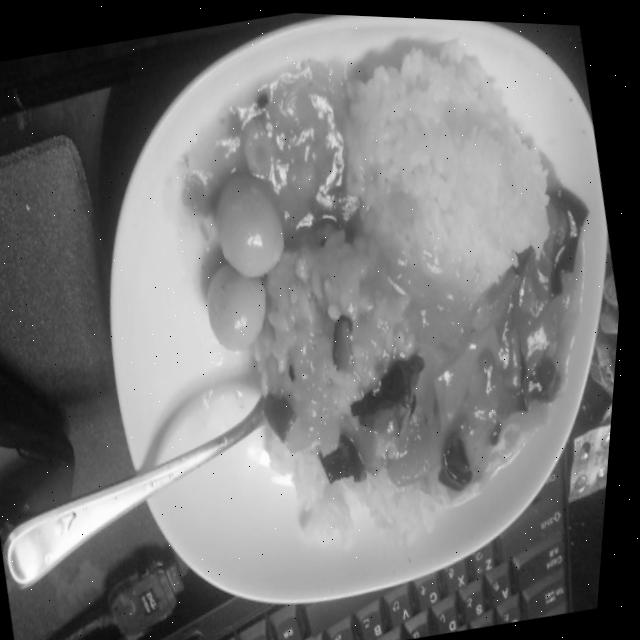刺身生食: (53, 3, 640, 640)
